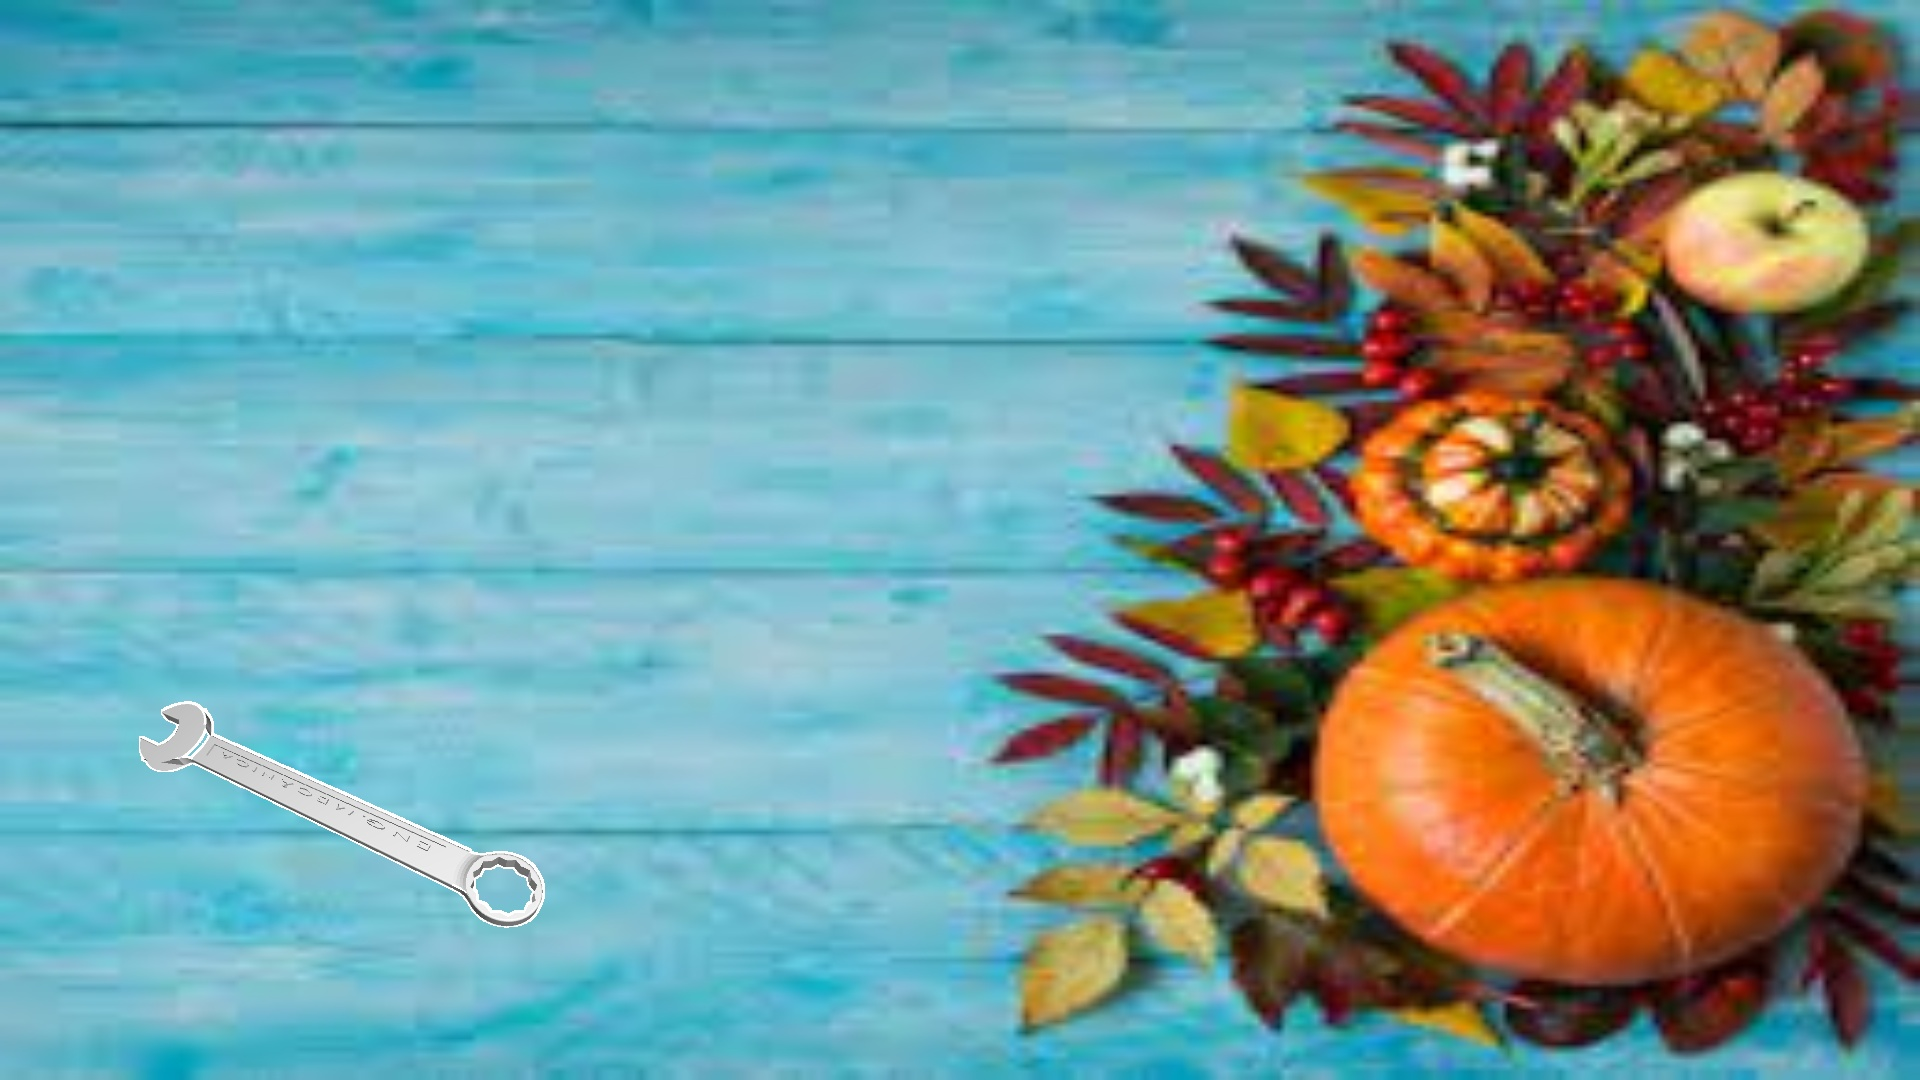Mixed Key: (138, 702, 545, 927)
